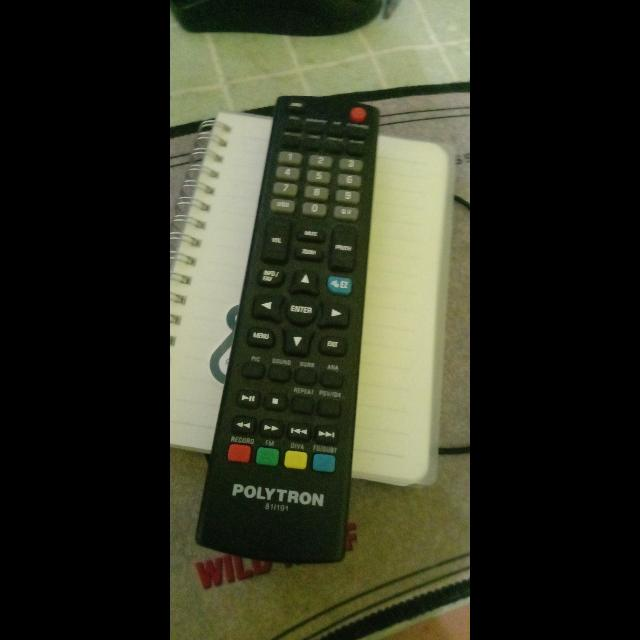TV-Remote-Control: (187, 89, 392, 563)
